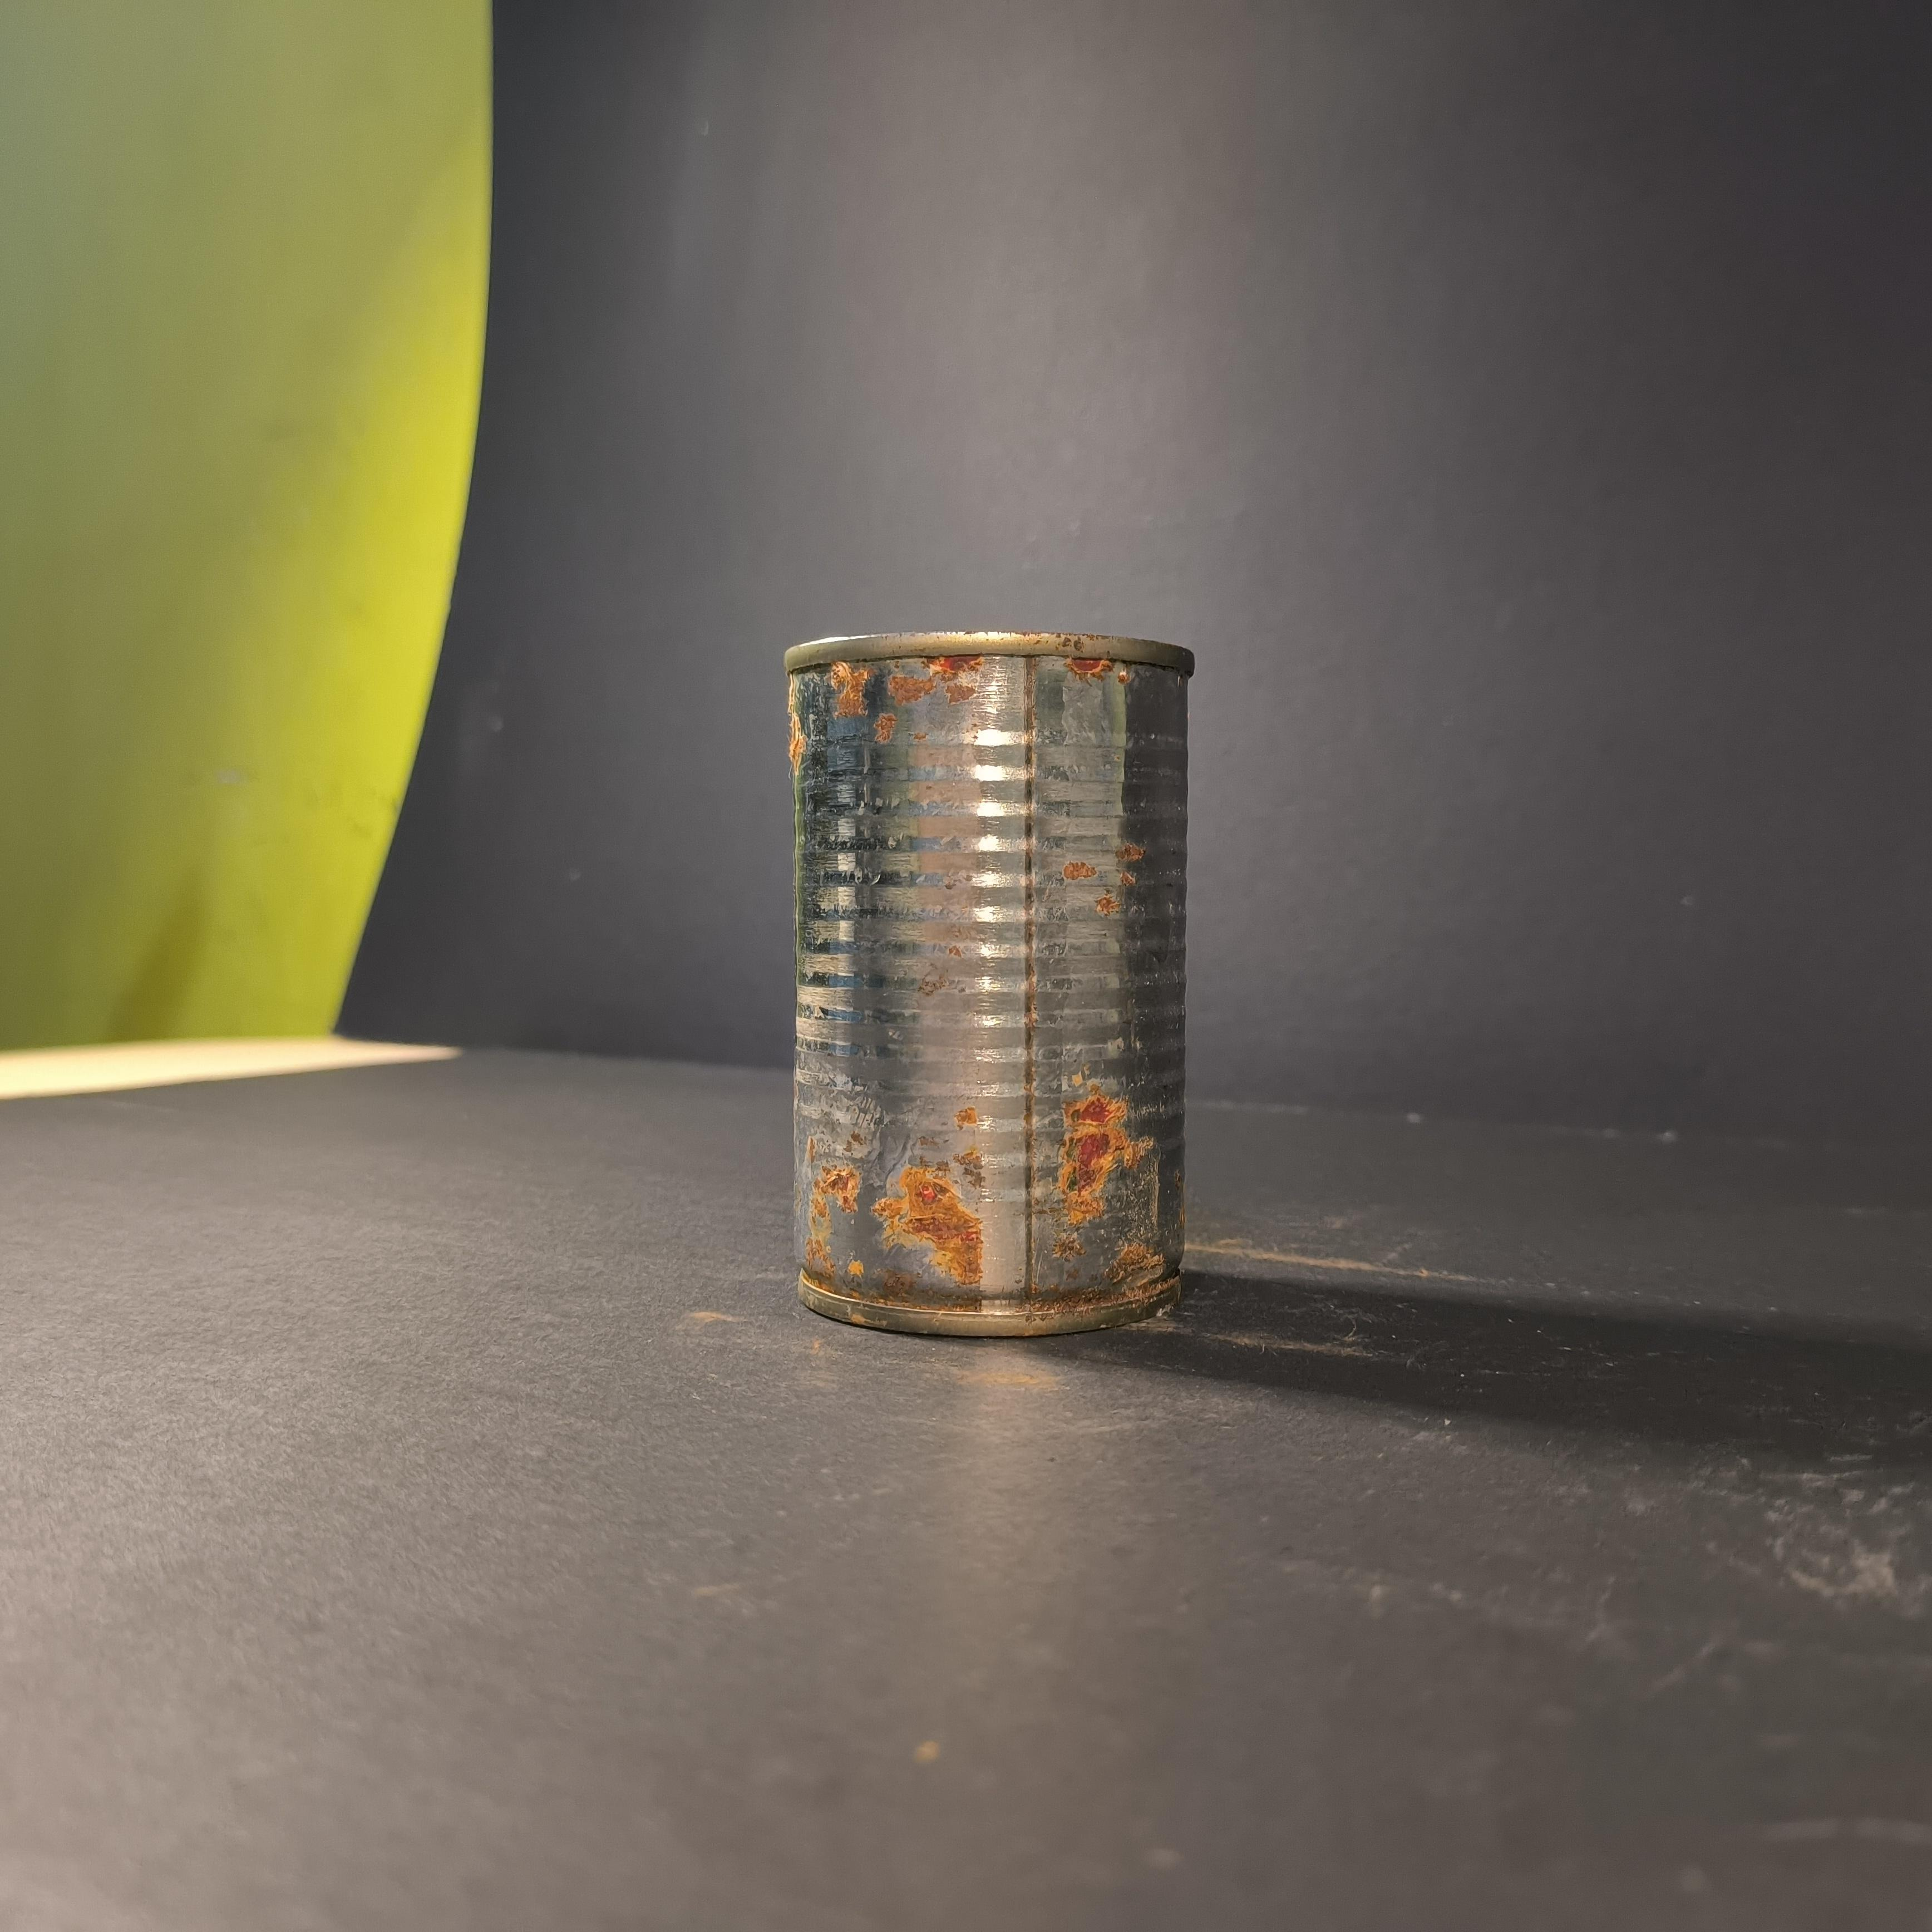Rusted: (759, 602, 1215, 1350)
